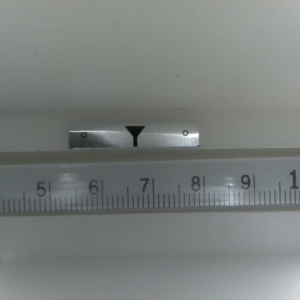1: (289, 169, 297, 189)
5: (36, 182, 46, 197)
6: (87, 179, 97, 194)
7: (139, 177, 148, 193)
8: (191, 176, 200, 191)
9: (241, 175, 250, 189)
finger: (124, 126, 145, 148)
